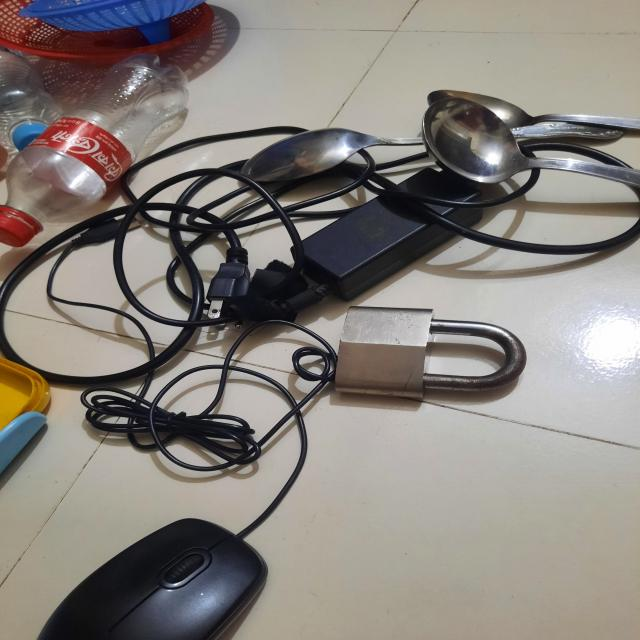Cable: (30, 192, 323, 609)
Metal: (290, 87, 640, 195), (324, 299, 552, 412)
Plastics: (0, 0, 205, 236)
